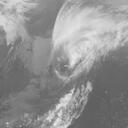cyclone: (51, 32, 99, 83)
